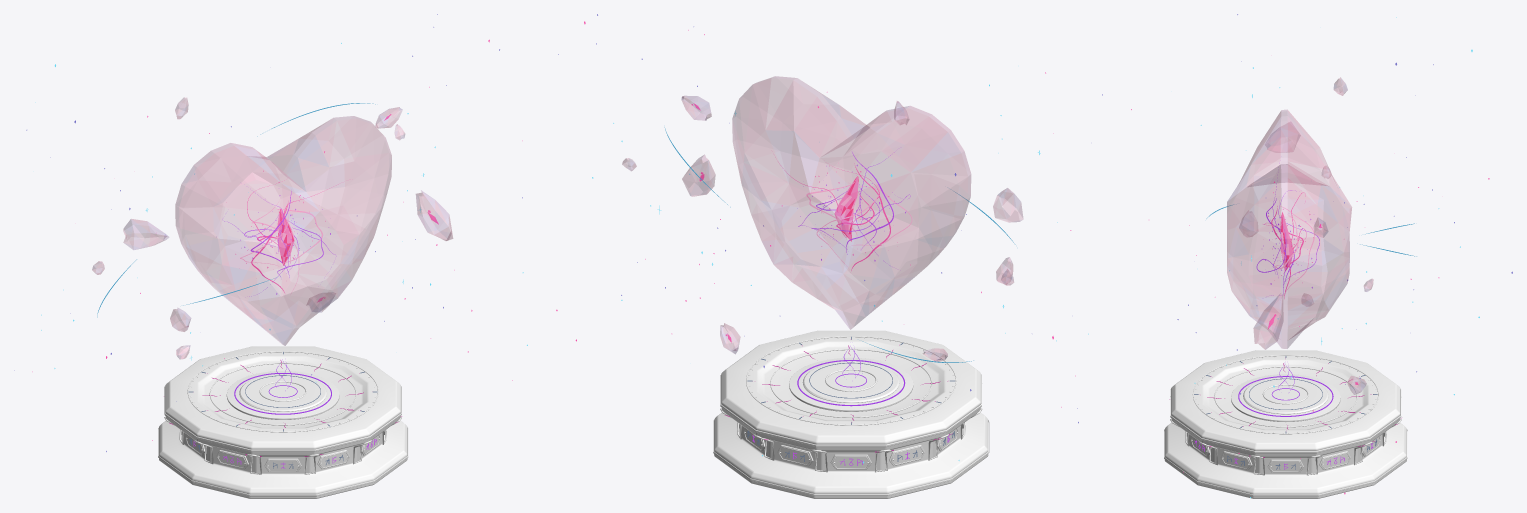
The model's file is crystal_heart.glb.
3 views of the same model, side by side, from view 1: azimuth 30°, elevation 25°; view 2: azimuth 150°, elevation 25°; view 3: azimuth 270°, elevation 25° (orthographic). The views are drawn at different scales.
Parts seen in each view (by area): view 1: Heart • crown, girdle and pavilion, Altar • carved basalt body, Altar • obsidian mirror, Altar • bronze seal, Fragment • 02, Fragment • 01, Altar • crown inlay, Altar • foot inlay, Altar • engraved circle 1.16, Energy • twisted incandescent seed; view 2: Heart • crown, girdle and pavilion, Altar • carved basalt body, Altar • obsidian mirror, Altar • bronze seal, Altar • crown inlay, Fragment • 02, Fragment • 01, Energy • twisted incandescent seed, Altar • foot inlay, Altar • engraved circle 1.16, Altar • engraved circle 0.89, Altar • seal plate 05; view 3: Altar • carved basalt body, Heart • crown, girdle and pavilion, Altar • obsidian mirror, Altar • bronze seal, Fragment • 02, Altar • crown inlay, Fragment • 01, Altar • foot inlay, Altar • engraved circle 1.16, Altar • engraved circle 0.89, Energy • twisted incandescent seed, Altar • seal plate 01.
Boxes of the visible parts, x1,y1,x2,y2 form: Heart • crown, girdle and pavilion: (175,116,391,345); Altar • carved basalt body: (159,346,407,498); Altar • obsidian mirror: (239,374,326,411); Altar • bronze seal: (226,371,339,419); Fragment • 02: (415,190,453,240); Fragment • 01: (123,219,169,249); Altar • crown inlay: (164,386,401,451); Altar • foot inlay: (158,427,408,496); Altar • engraved circle 1.16: (187,351,378,432); Energy • twisted incandescent seed: (277,208,294,265); Heart • crown, girdle and pavilion: (732,76,971,329); Altar • carved basalt body: (714,330,988,498); Altar • obsidian mirror: (802,361,899,402); Altar • bronze seal: (789,357,913,411); Altar • crown inlay: (720,375,981,447); Fragment • 02: (682,154,715,196); Fragment • 01: (993,188,1023,222); Energy • twisted incandescent seed: (834,176,858,241); Altar • foot inlay: (713,420,989,495); Altar • engraved circle 1.16: (746,336,956,425); Altar • engraved circle 0.89: (770,349,932,417); Altar • seal plate 05: (830,454,871,469); Altar • carved basalt body: (1164,350,1406,498); Heart • crown, girdle and pavilion: (1227,109,1351,348); Altar • obsidian mirror: (1243,377,1328,414); Altar • bronze seal: (1231,374,1340,422); Fragment • 02: (1253,293,1283,349); Altar • crown inlay: (1170,389,1401,453); Fragment • 01: (1265,122,1300,152); Altar • foot inlay: (1164,429,1407,496); Altar • engraved circle 1.16: (1192,355,1378,434); Altar • engraved circle 0.89: (1214,366,1357,427); Energy • twisted incandescent seed: (1280,212,1293,270); Altar • seal plate 01: (1267,459,1303,472).
Bounding box in the file's own units: 6.54 × 4.76 × 4.78.
